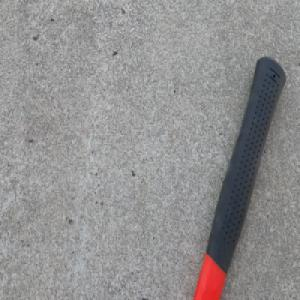Hammer: (192, 53, 287, 300)
